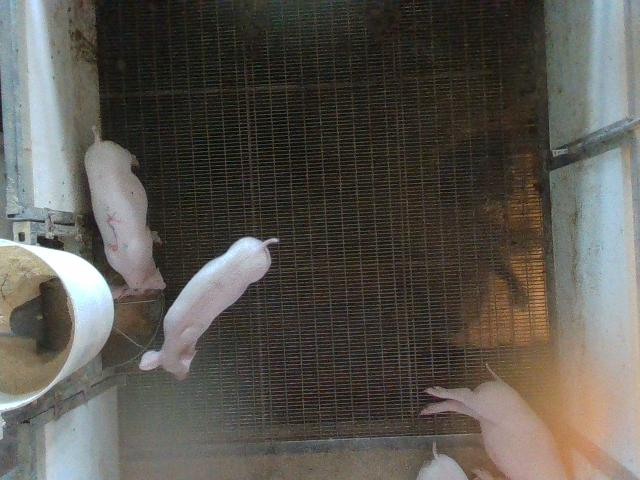pig-5: (85, 128, 165, 294)
